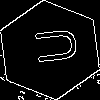U: (25, 25, 79, 67)
